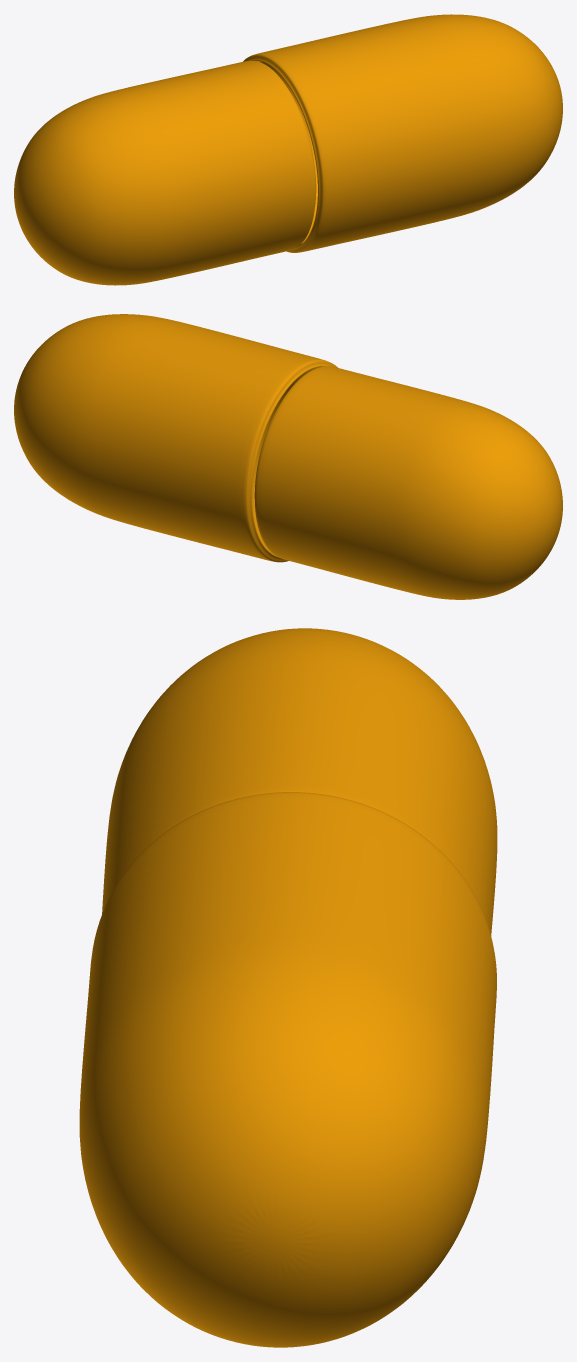
The model's file is capsule.glb.gltf.
The picture shows the model from 3 angles, top to bottom: view 1: azimuth 30°, elevation 25°; view 2: azimuth 150°, elevation 25°; view 3: azimuth 270°, elevation 25°; orthographic projection. The views are drawn at different scales.
Visible parts, largest first — view 1: Sphere.002, Sphere.001_Sphere.003; view 2: Sphere.002, Sphere.001_Sphere.003; view 3: Sphere.001_Sphere.003, Sphere.002.
Boxes of the visible parts, <box> form: Sphere.002: <box>14,60,316,285</box>; Sphere.001_Sphere.003: <box>243,14,562,252</box>; Sphere.002: <box>254,366,562,599</box>; Sphere.001_Sphere.003: <box>14,314,337,562</box>; Sphere.001_Sphere.003: <box>79,792,496,1347</box>; Sphere.002: <box>102,628,497,935</box>.
Size of the model in its own units: 0.4472 by 0.1523 by 0.1556.
